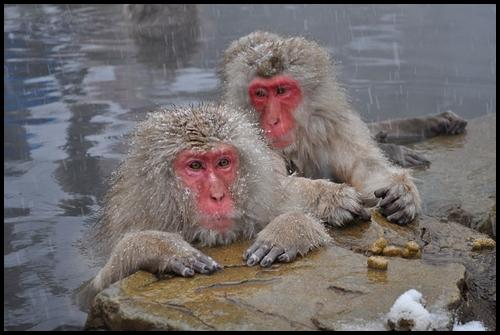monkey: (93, 30, 431, 265)
